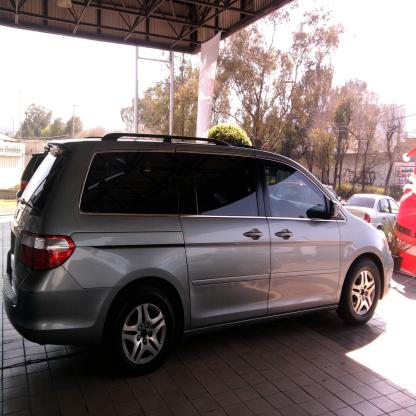Vehicle: (3, 133, 395, 378)
